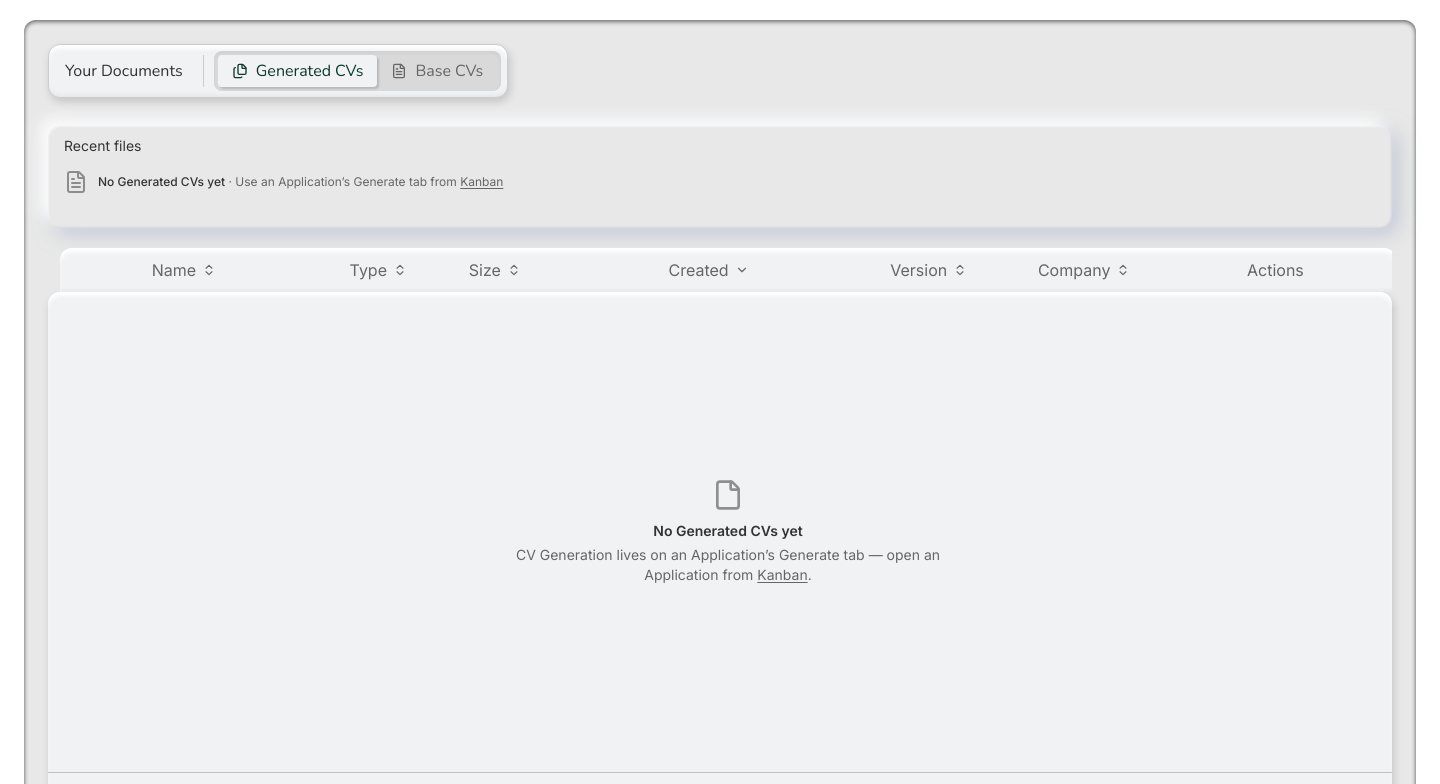
Test: DocumentsRoute › shows the upload guidance and empty state
The image size is (1440, 784).
Expected: the heading "No Generated CVs yet" is shown, x1=653 y1=521 x2=803 y2=541
Expected: the text "Application’s Generate tab" is shown, x1=516 y1=546 x2=940 y2=583
Press the mouse on the tab "Base CVs" at x=437, y=71, box x1=377 y1=55 x2=497 y2=87
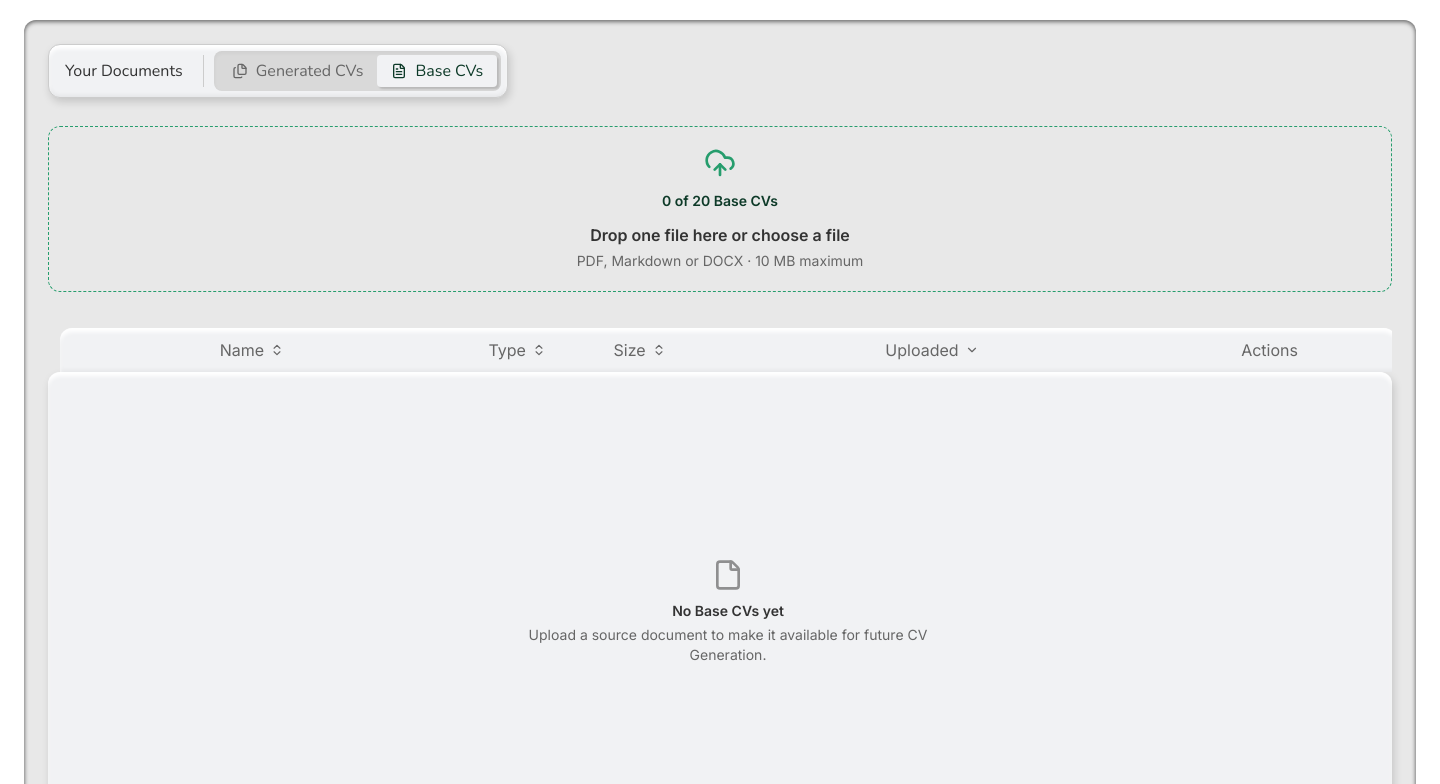
Expected: the heading "No Base CVs yet" is shown, x1=672 y1=601 x2=784 y2=621
Expected: the text "PDF, Markdown or DOCX · 10 MB maximum" is shown, x1=577 y1=251 x2=863 y2=271
